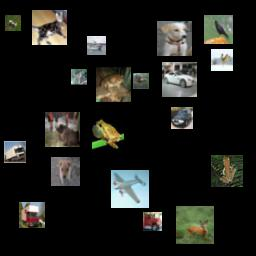airplane: (111, 170, 149, 208)
automobile: (162, 62, 197, 97), (171, 107, 193, 129)
bird: (204, 15, 233, 44), (71, 69, 87, 85)
cat: (32, 10, 67, 45), (5, 15, 21, 31)
deer: (176, 206, 214, 244), (45, 112, 80, 147), (211, 49, 233, 71), (133, 73, 149, 89)
dog: (157, 21, 192, 56), (51, 157, 80, 186)
frog: (96, 67, 131, 102), (211, 155, 243, 187), (92, 118, 124, 150)
ship: (87, 36, 106, 55)
truck: (19, 202, 45, 228), (4, 141, 26, 163), (143, 212, 162, 231)
